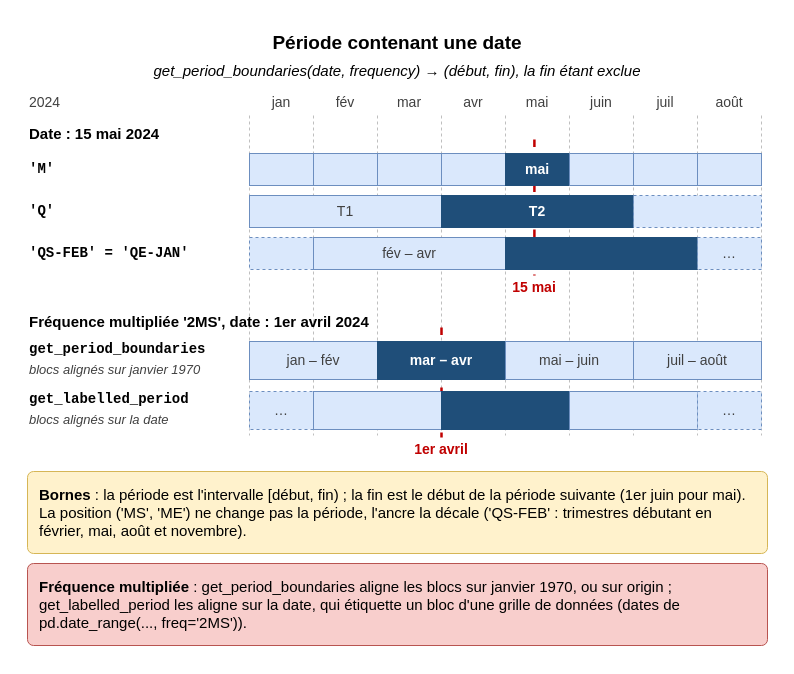
Image size: 794x674. Some labels were removed from this diagram. Each missing label, with the centre of its shape:
avr – mai: (505,410)
fév – mar: (377,410)
juin – juil: (633,410)
mai – juil: (601,253)
T3 …: (697,211)
